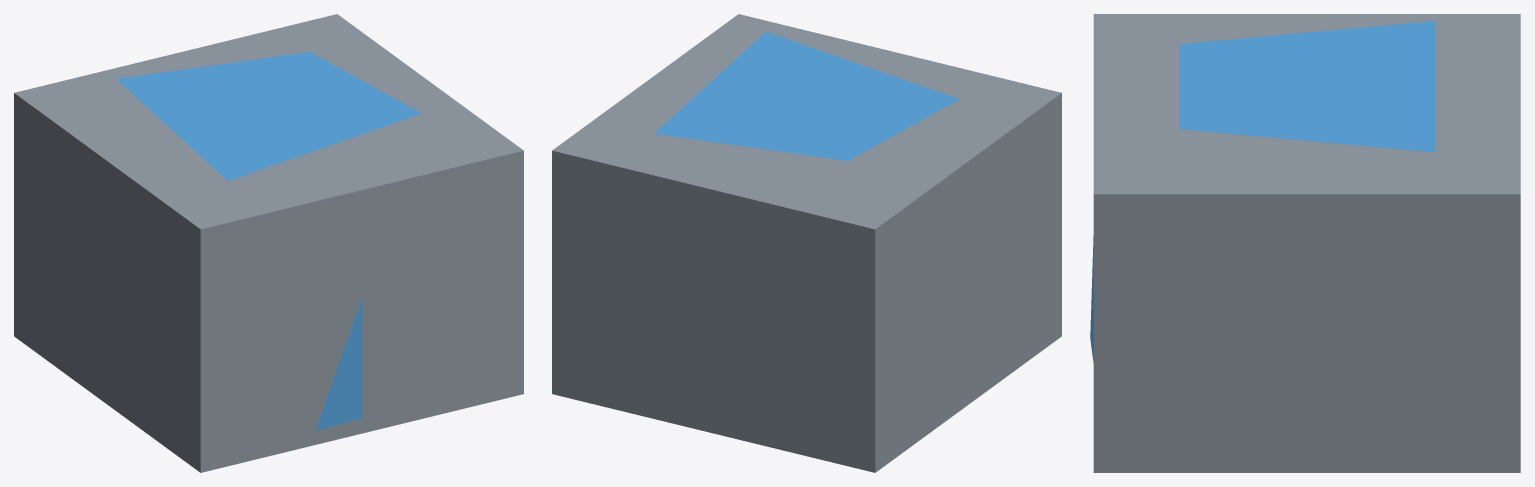
File: AL_AATurret_LOD1.glb
3 renders of one model, left to right at view 1: azimuth 30°, elevation 25°; view 2: azimuth 150°, elevation 25°; view 3: azimuth 270°, elevation 25°, orthographic. The views are drawn at different scales.
Parts seen in each view (by area): view 1: EntranceGate; view 2: EntranceGate; view 3: EntranceGate.
Part boxes in pixels (x1,y1,x2,y2): EntranceGate: (14,14,523,472); EntranceGate: (552,14,1061,472); EntranceGate: (1090,14,1520,472).
Bounding box in the file's own units: 400 × 318 × 403.
